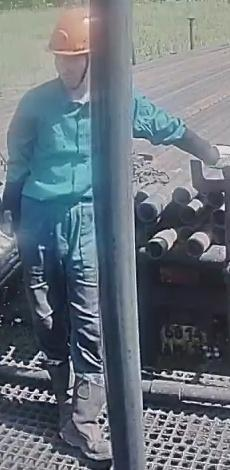gloves: (202, 141, 230, 173), (0, 226, 19, 264)
helmet: (46, 8, 92, 55)
vest: (0, 79, 95, 225)
